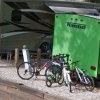Bicycle: (11, 47, 93, 95)
